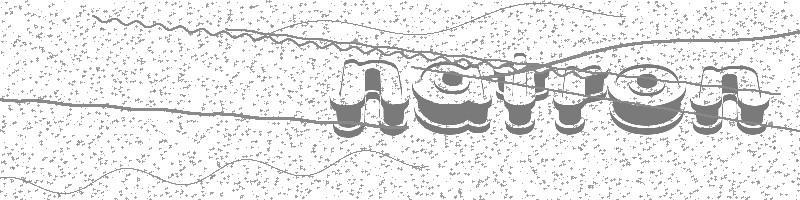a: (412, 61, 493, 135)
n: (329, 58, 410, 137), (691, 63, 770, 137)
o: (607, 63, 688, 135)
r: (553, 63, 606, 136)
t: (494, 52, 550, 136)
